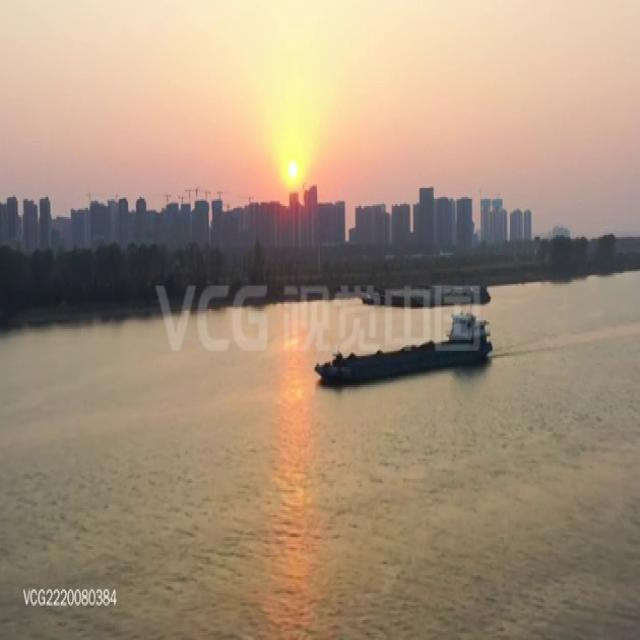cargoship: (310, 311, 492, 388)
